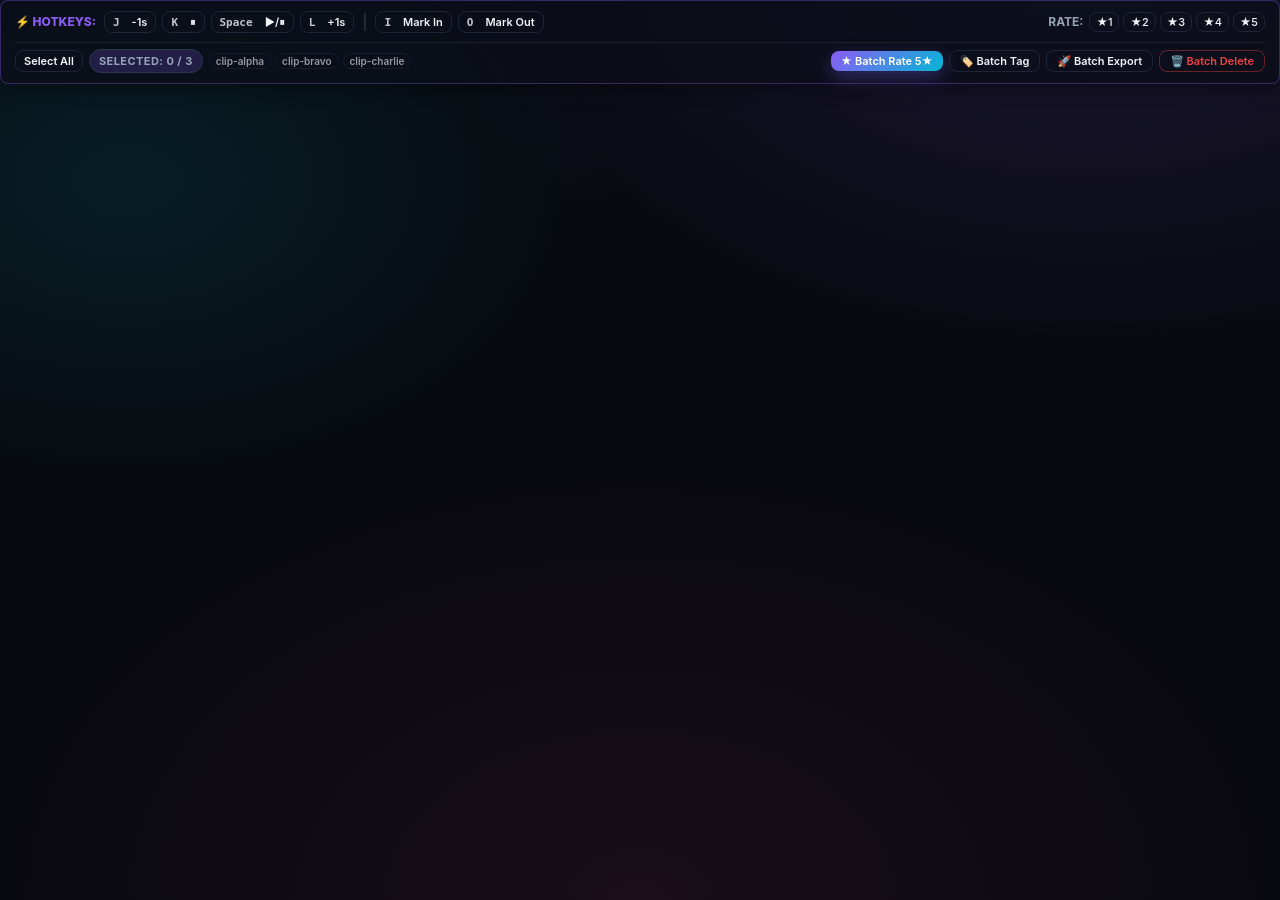
Milestone M5 Empirical Challenge: Streamer Workflow & Hotkeys Stress Harness › Batch Action Toolbar Edge Cases & Concurrency › disables batch action buttons while batch operation is in-flight (race condition guard)
Click the button with test id "batch-select-all": [49, 61] box top-left (15, 50), bottom-right (83, 72)
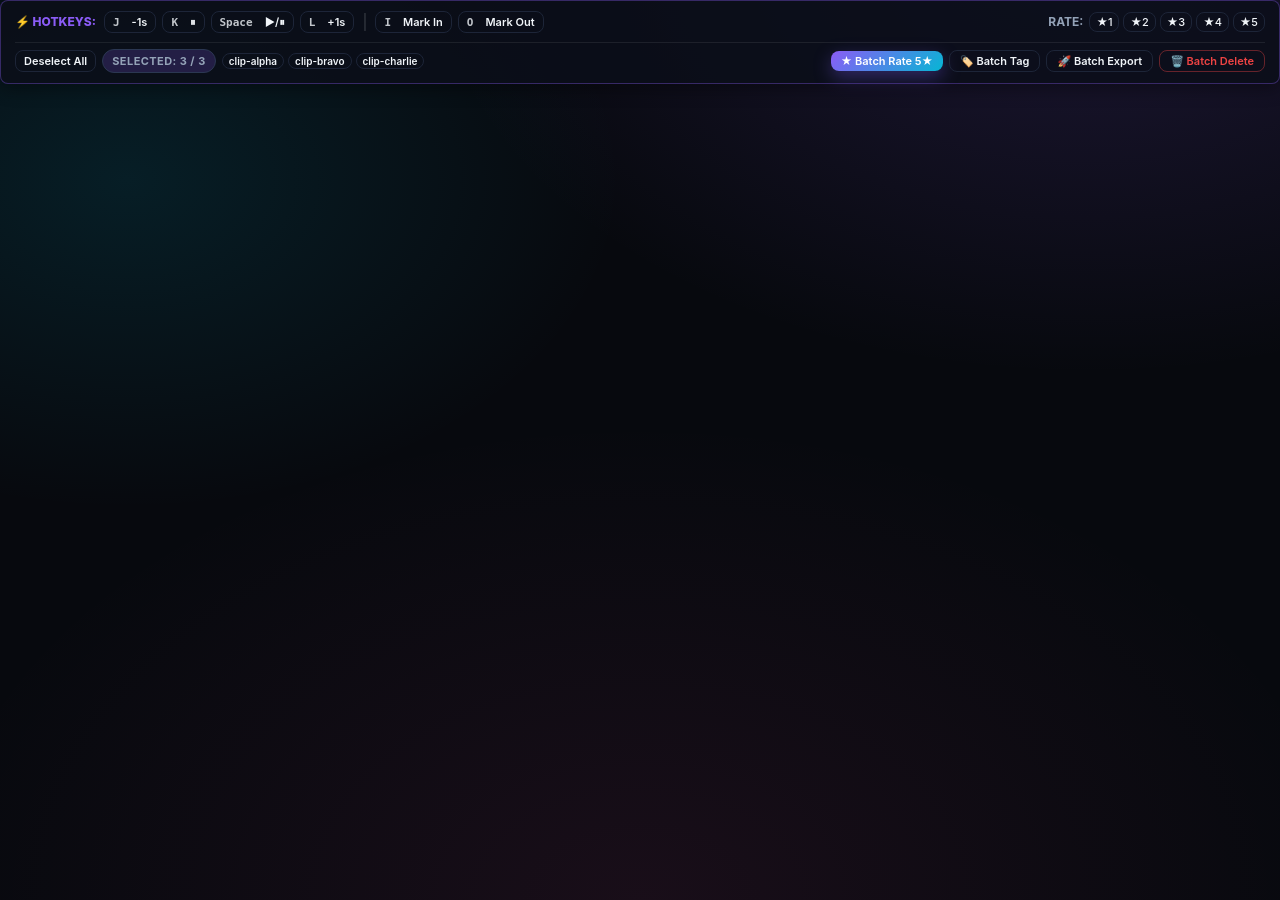
Note: First click
Click the button with test id "batch-rate": [887, 61] box top-left (831, 51), bottom-right (943, 71)
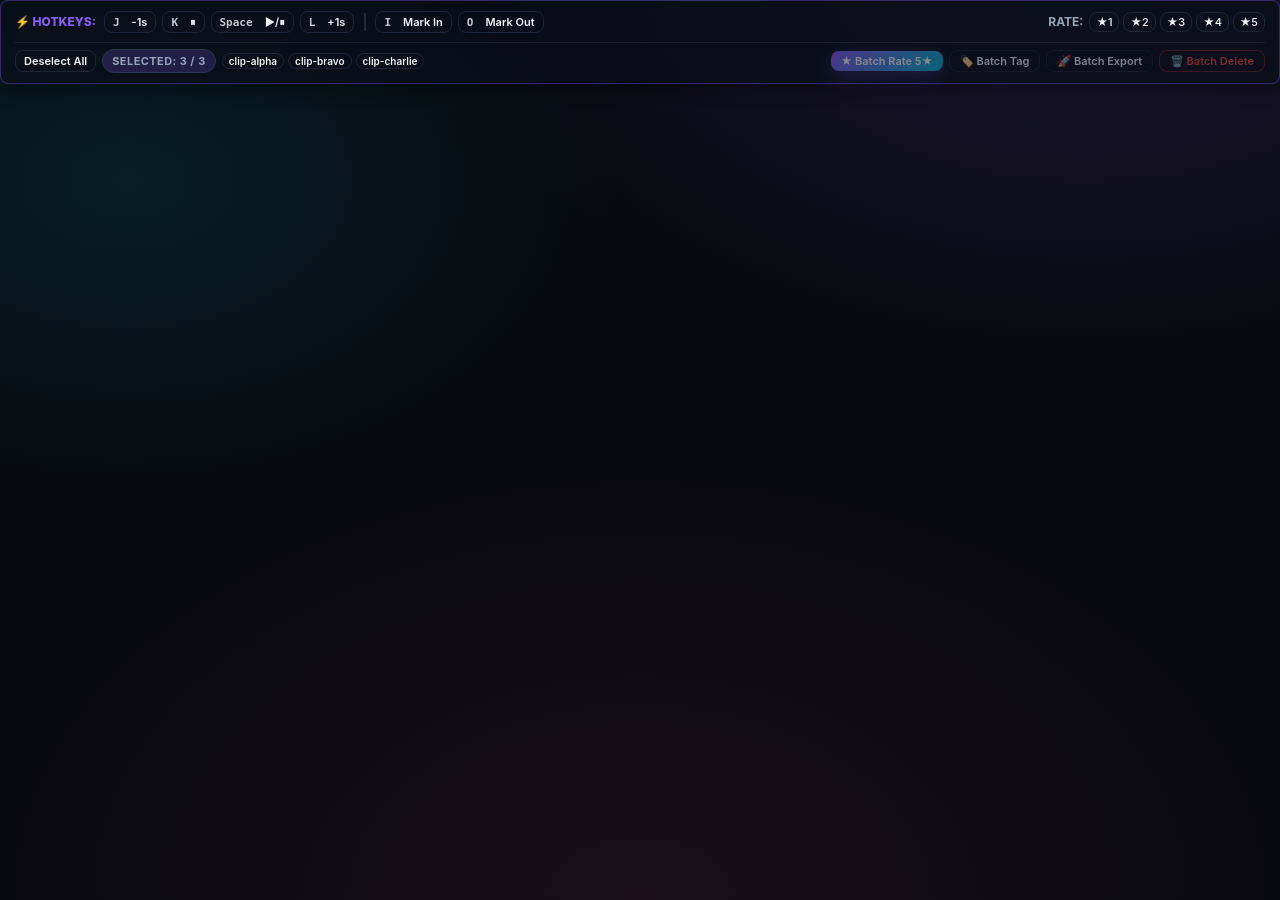
Expected: the button with test id "batch-rate" is disabled
Expected: the button with test id "batch-tag" is disabled, top-left (949, 50), bottom-right (1040, 72)
Expected: the button with test id "batch-export" is disabled, top-left (1046, 50), bottom-right (1153, 72)
Note: Second click while in flight should be blocked by disabled attribute
Click the button with test id "batch-rate": [887, 61] box top-left (831, 51), bottom-right (943, 71)
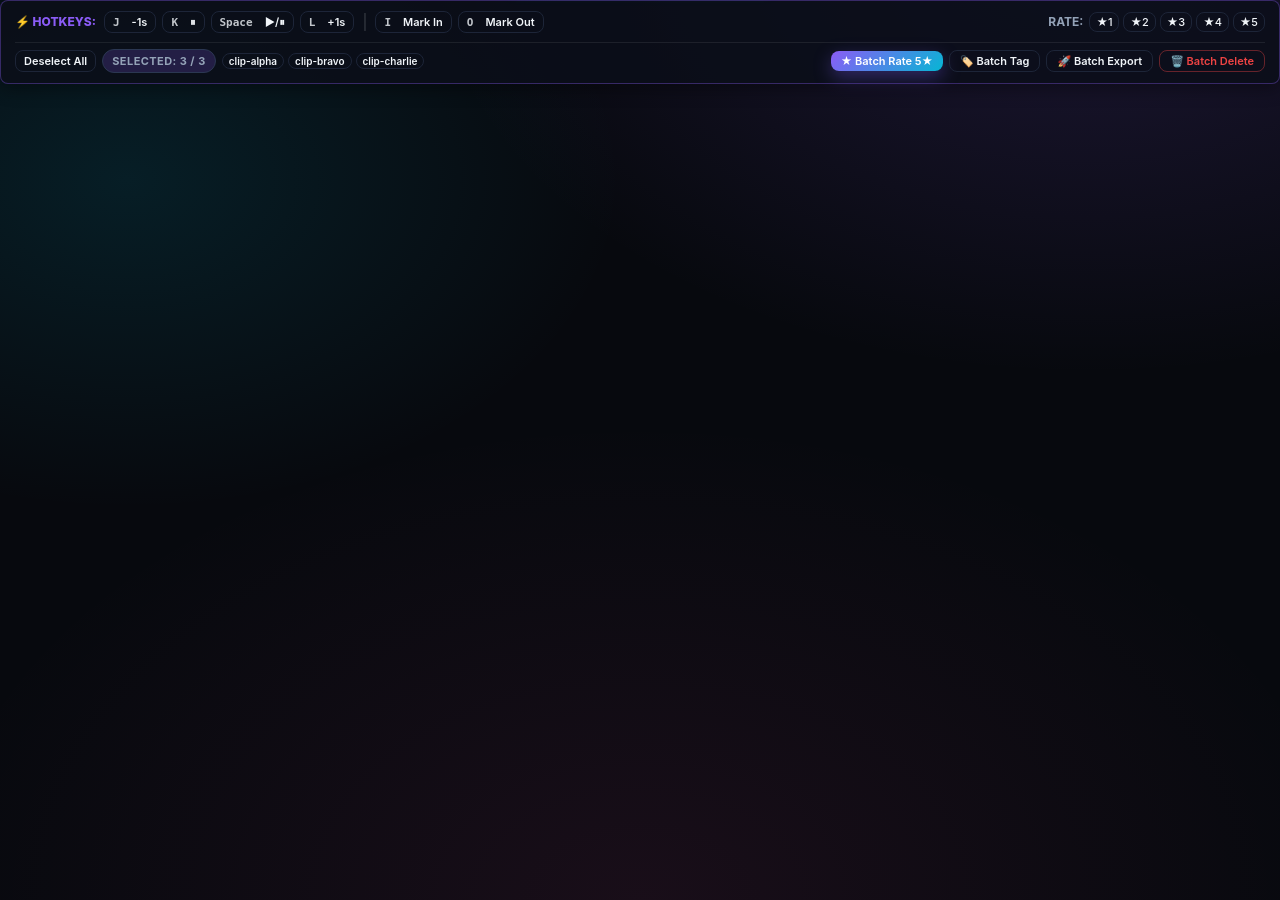
Expected: the button with test id "batch-rate" is enabled, top-left (831, 51), bottom-right (943, 71)
Expected: the button with test id "batch-tag" is enabled, top-left (949, 50), bottom-right (1040, 72)
